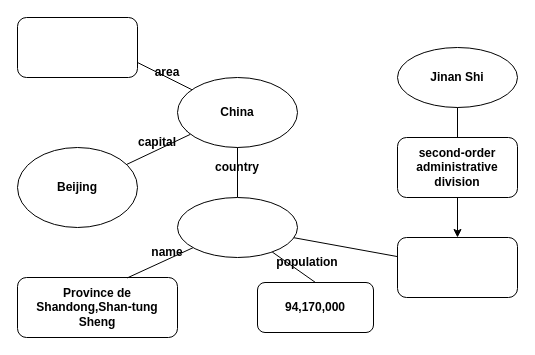
The diagram is 535 pixels wide and 355 high, and some of its shapes have lost their labels. Each missing label, with the centre of its shape:
"9,596,960.0km 2" belongs at (x=77, y=47).
"first-order administrative division" belongs at (x=457, y=267).
"Shandong" belongs at (x=237, y=227).
